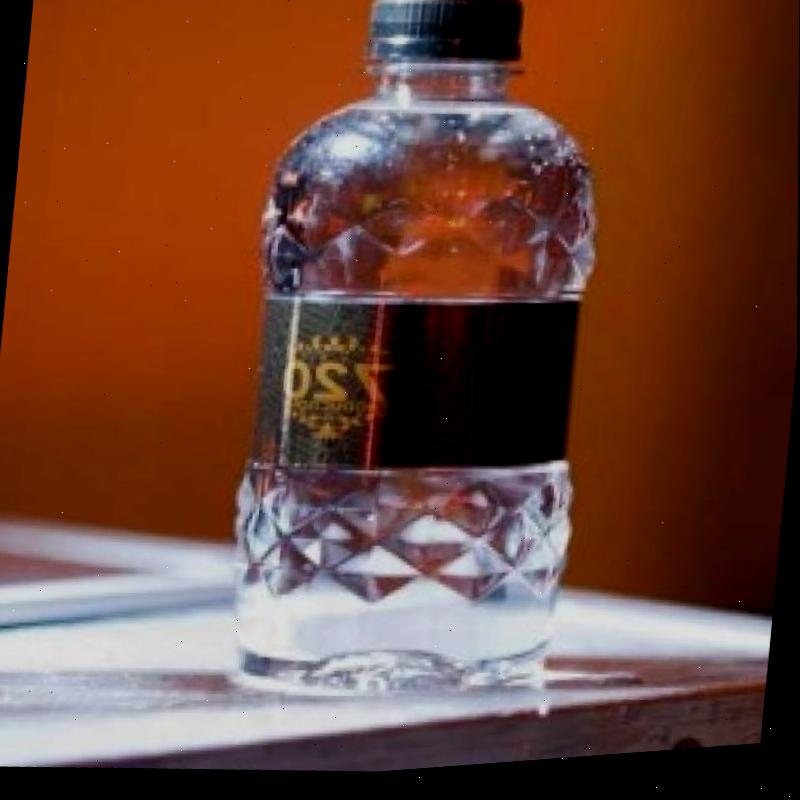botella: (214, 0, 627, 719)
